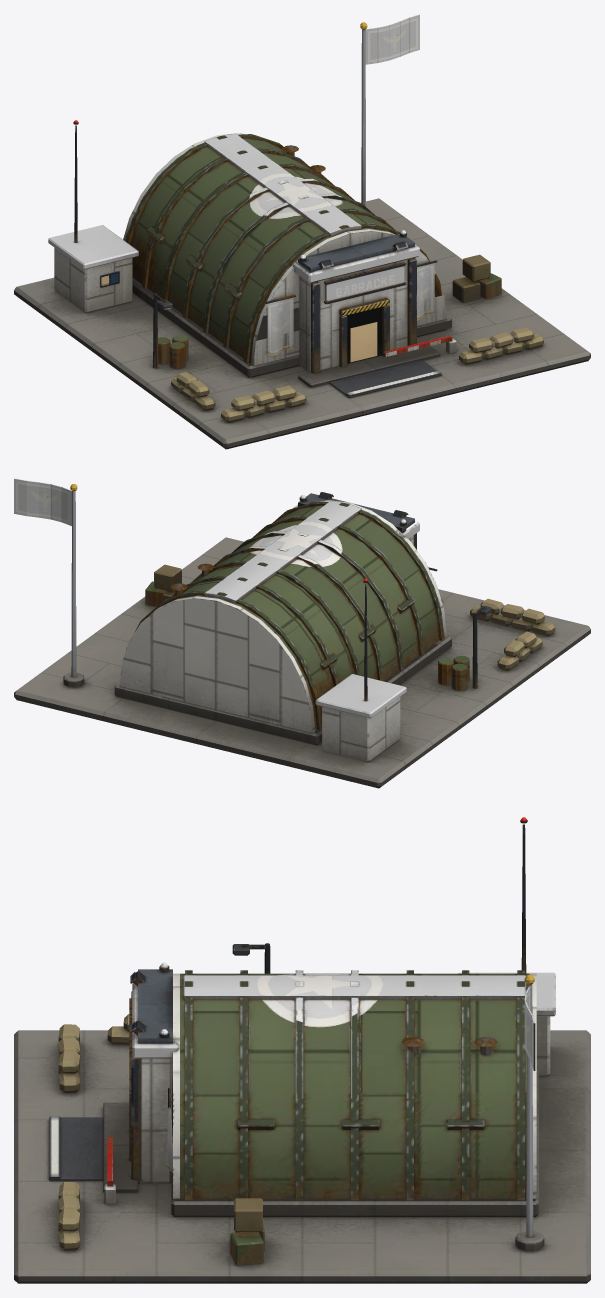
The model's file is tent.allies.glb.
The picture shows the model from 3 angles, top to bottom: view 1: azimuth 30°, elevation 25°; view 2: azimuth 150°, elevation 25°; view 3: azimuth 270°, elevation 25°; orthographic projection. The views are drawn at different scales.
Visible parts, largest first — view 1: root_mesh, flag_mesh; view 2: root_mesh, flag_mesh; view 3: root_mesh, flag_mesh.
Boxes of the visible parts, left/top/right/bottom form: root_mesh: left=14, top=22, right=590, bottom=449; flag_mesh: left=365, top=14, right=419, bottom=64; root_mesh: left=14, top=484, right=590, bottom=788; flag_mesh: left=14, top=478, right=71, bottom=525; root_mesh: left=14, top=817, right=590, bottom=1283; flag_mesh: left=524, top=986, right=535, bottom=1070.
Bounding box in the file's own units: 2.08 × 1.08 × 1.98.
1 material, 1 textured.
